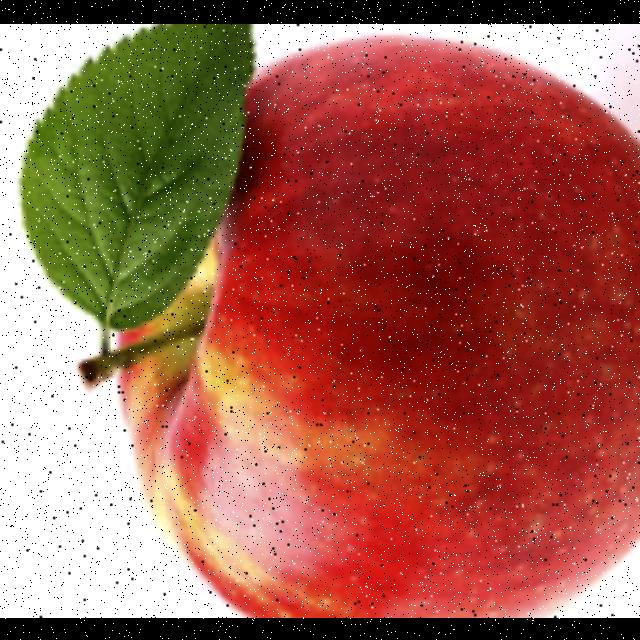Apel Segar: (126, 44, 640, 616)
